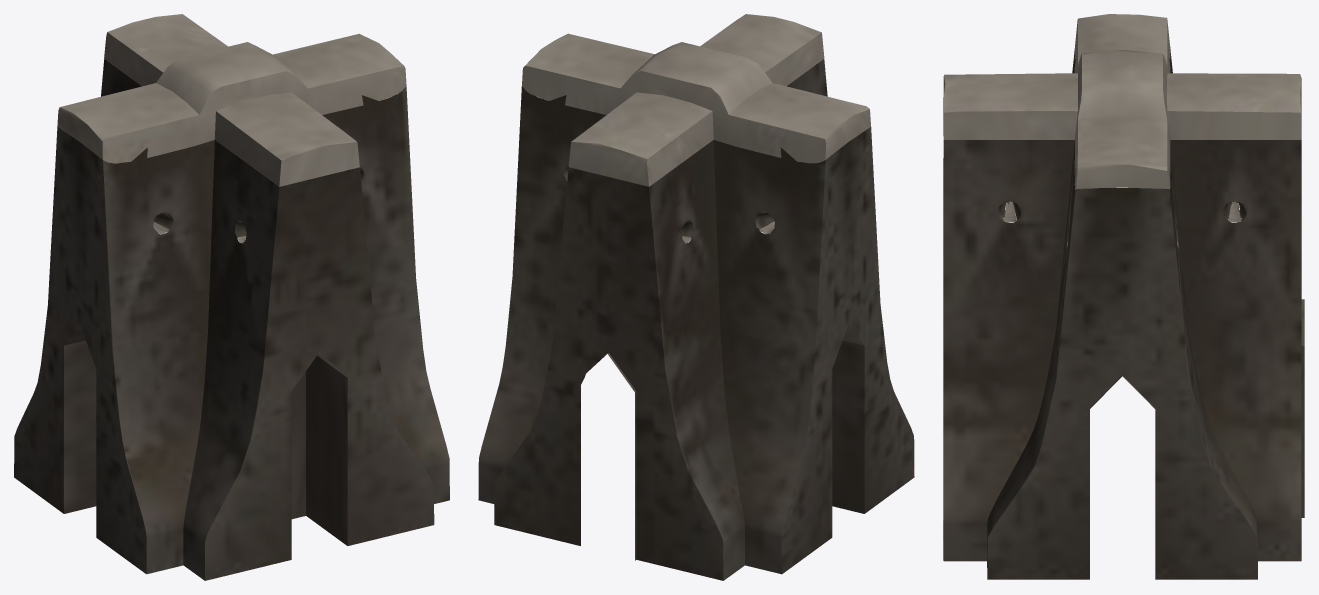
File: stone-wall-nesw.glb
3 renders of one model, left to right at view 1: azimuth 30°, elevation 25°; view 2: azimuth 150°, elevation 25°; view 3: azimuth 270°, elevation 25°, orthographic. The views are drawn at different scales.
Parts seen in each view (by area): view 1: body; view 2: body; view 3: body.
Part boxes in pixels (x1=…): body: x1=14, y1=14, x2=449, y2=580; body: x1=478, y1=14, x2=914, y2=580; body: x1=943, y1=14, x2=1304, y2=579.
Size of the model in its own units: 0.992 by 1.32 by 0.9921.
1 material, 1 textured.
